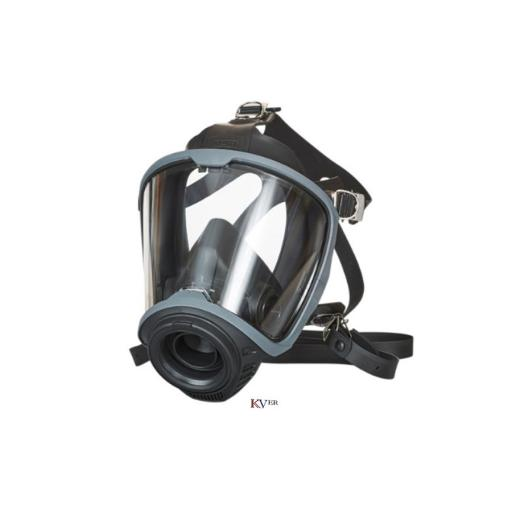mask: (100, 132, 440, 402)
